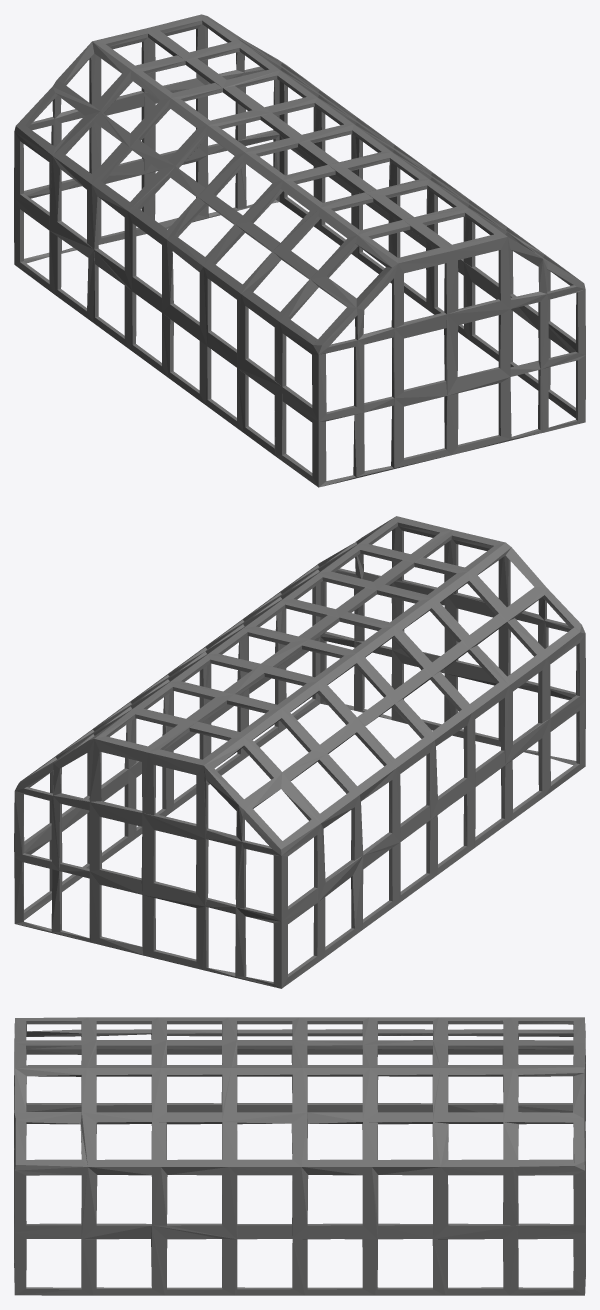
The model's file is LPCP_Cage18.fbx.
3 renders of one model, top to bottom at view 1: azimuth 30°, elevation 25°; view 2: azimuth 150°, elevation 25°; view 3: azimuth 270°, elevation 25°, orthographic. The views are drawn at different scales.
Visible parts, largest first — view 1: LPCP_Cage18; view 2: LPCP_Cage18; view 3: LPCP_Cage18.
Part boxes in pixels (box(x1,y1,x2,y2)): LPCP_Cage18: box(14, 14, 585, 487); LPCP_Cage18: box(14, 516, 585, 988); LPCP_Cage18: box(14, 1017, 585, 1295).
Size of the model in its own units: 9.39 by 6.85 by 18.49.
